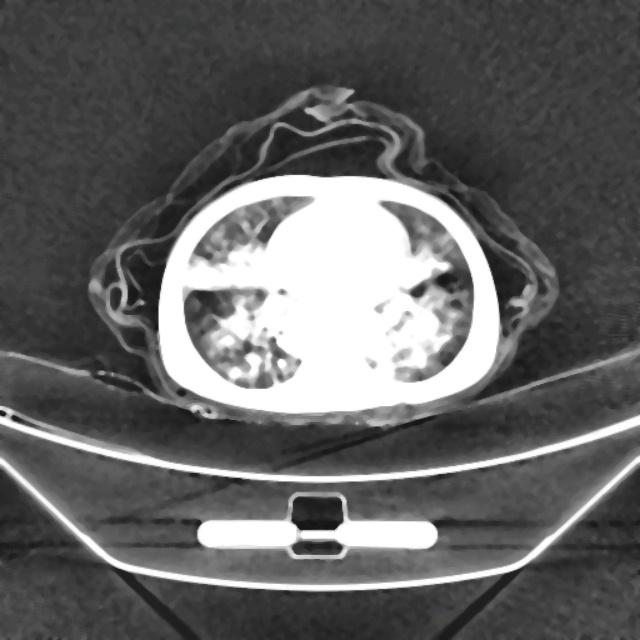covid: (86, 83, 560, 431)
